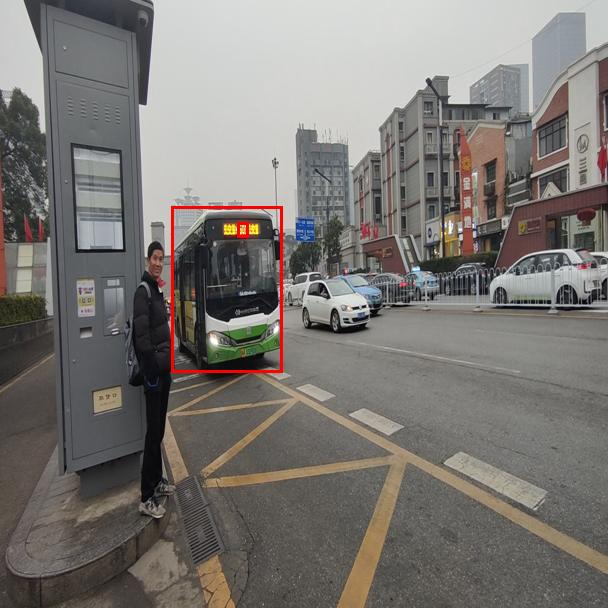bus: (171, 206, 282, 372)
screen: (237, 222, 248, 237)
